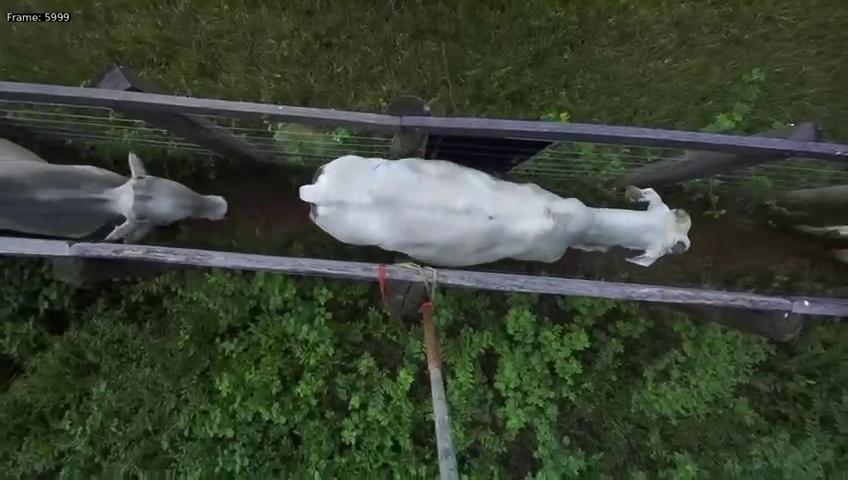cattle: (295, 130, 694, 272), (0, 125, 247, 256)
